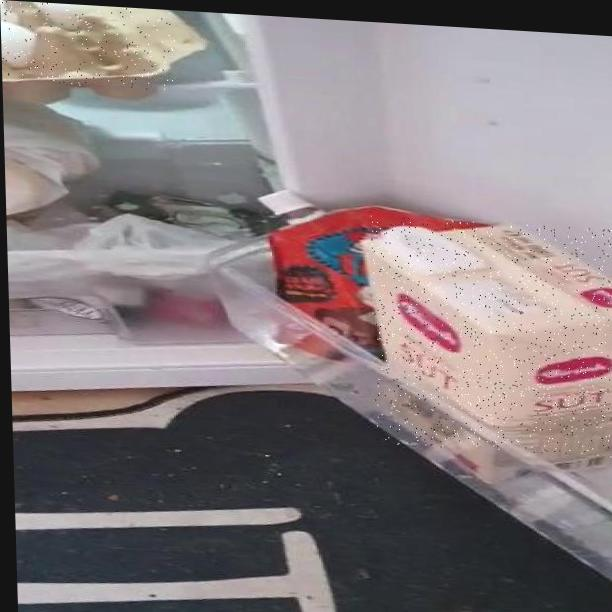eggs: (0, 0, 176, 90)
milk: (370, 215, 612, 458)
